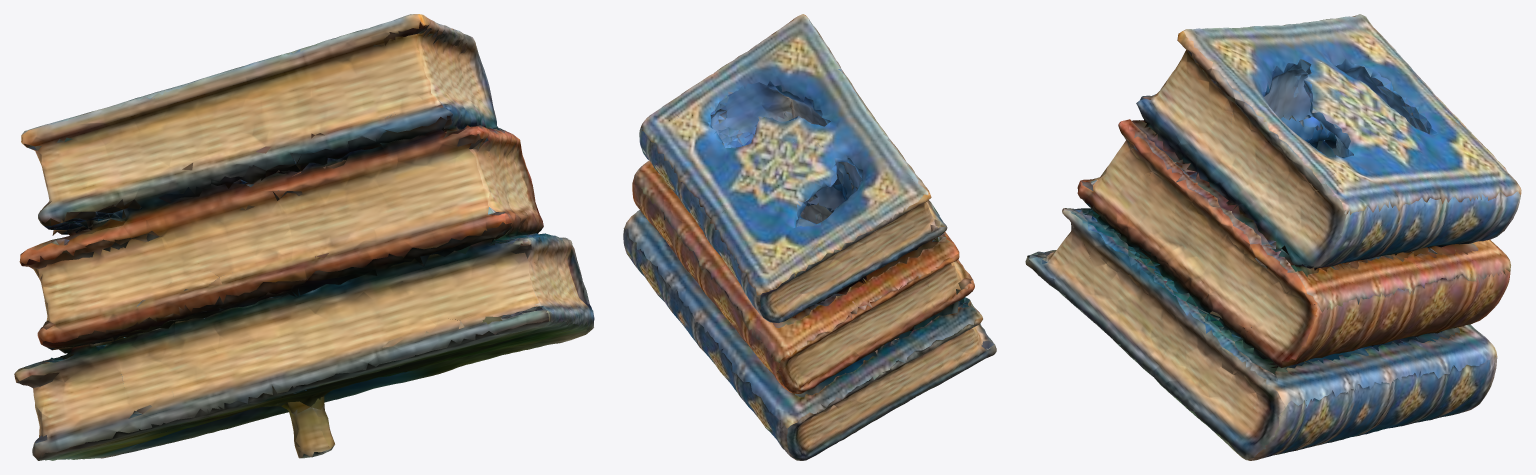
Rendered from dress-bottles.glb.
3 views of the same model, side by side, from view 1: azimuth 30°, elevation 25°; view 2: azimuth 150°, elevation 25°; view 3: azimuth 270°, elevation 25° (orthographic). The views are drawn at different scales.
Visible parts, largest first — view 1: world; view 2: world; view 3: world.
Boxes of the visible parts, <box> form: world: <box>14,14,594,460</box>; world: <box>623,14,996,460</box>; world: <box>1025,14,1521,460</box>.
Size of the model in its own units: 1.05 by 0.9356 by 0.9373.
1 material, 1 textured.
